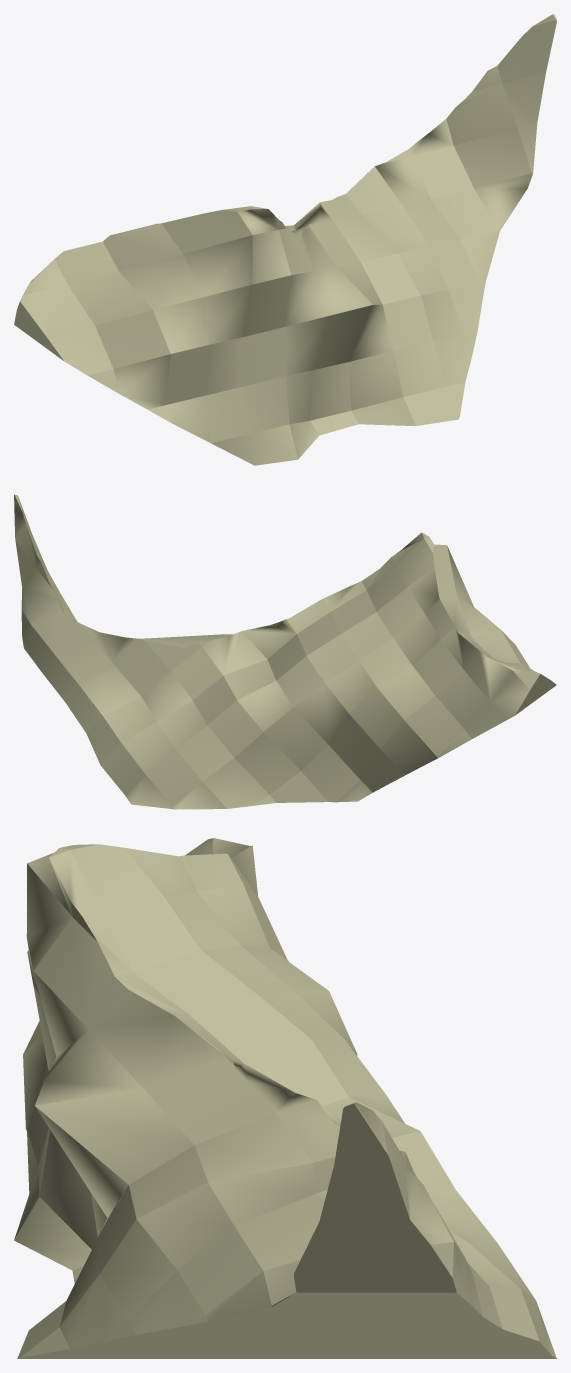
The model's file is M_Column_D23_1.fbx.
3 renders of one model, top to bottom at view 1: azimuth 30°, elevation 25°; view 2: azimuth 150°, elevation 25°; view 3: azimuth 270°, elevation 25°, orthographic. The views are drawn at different scales.
Visible parts, largest first — view 1: M_Column_D23_2; view 2: M_Column_D23_2; view 3: M_Column_D23_2.
Part boxes in pixels (x1,y1,x2,y2): M_Column_D23_2: [14, 14, 556, 465]; M_Column_D23_2: [14, 494, 556, 809]; M_Column_D23_2: [14, 838, 556, 1358].
Size of the model in its own units: 1.44 by 0.6415 by 0.7732.
